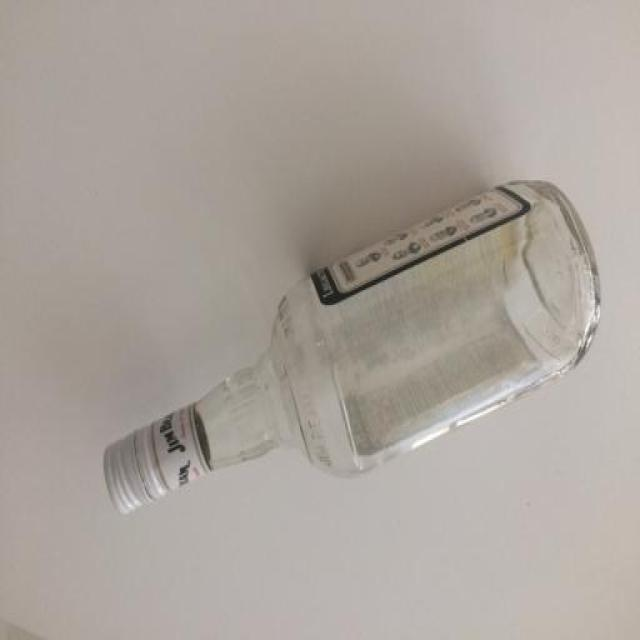glass: (101, 177, 604, 513)
